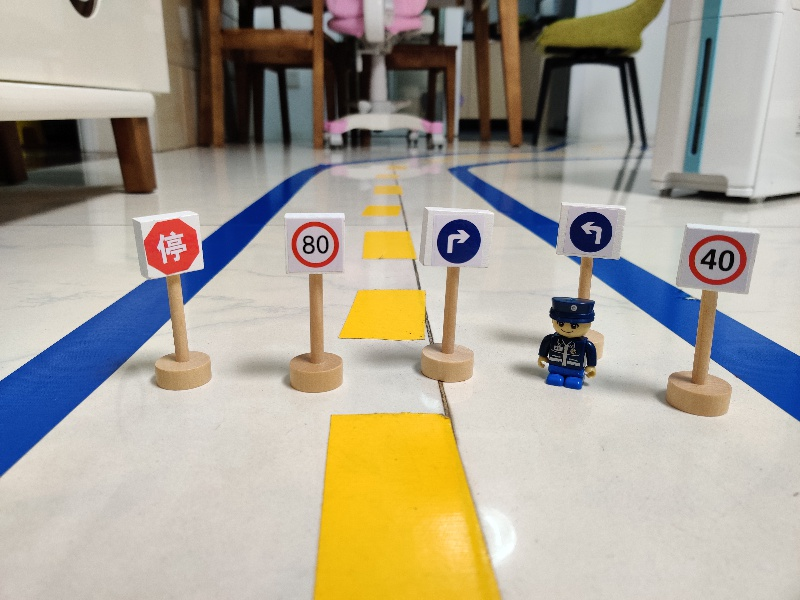limit_40: (670, 220, 762, 296)
limit_80: (279, 211, 347, 276)
person: (534, 292, 600, 396)
stop: (129, 212, 208, 282)
turn_left: (554, 198, 629, 262)
turn_right: (416, 204, 497, 269)
